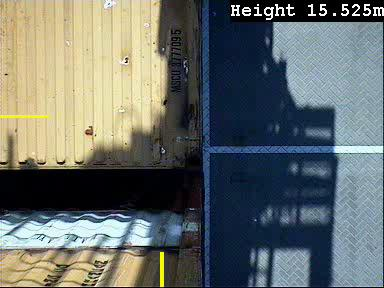groundmarker_2: (168, 64, 254, 99)
